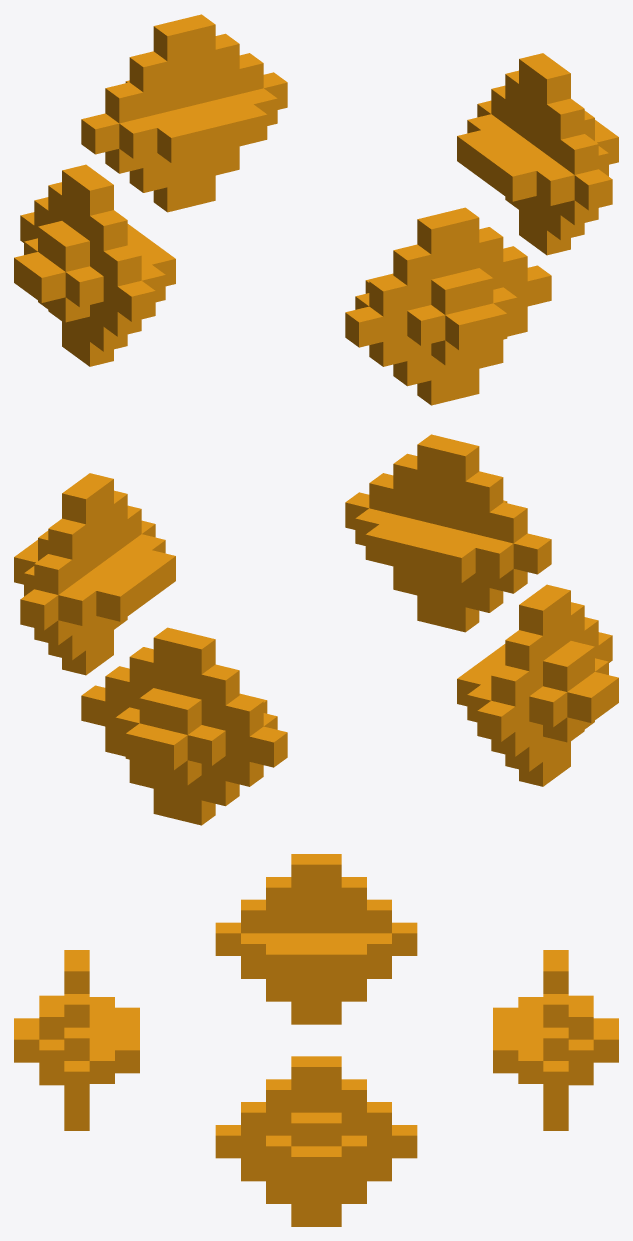
File: tower4_sides.obj
3 renders of one model, top to bottom at view 1: azimuth 30°, elevation 25°; view 2: azimuth 150°, elevation 25°; view 3: azimuth 270°, elevation 25°, orthographic. The views are drawn at different scales.
Size of the model in its own units: 2.4 by 0.7 by 2.4.
1 material, 1 textured.
